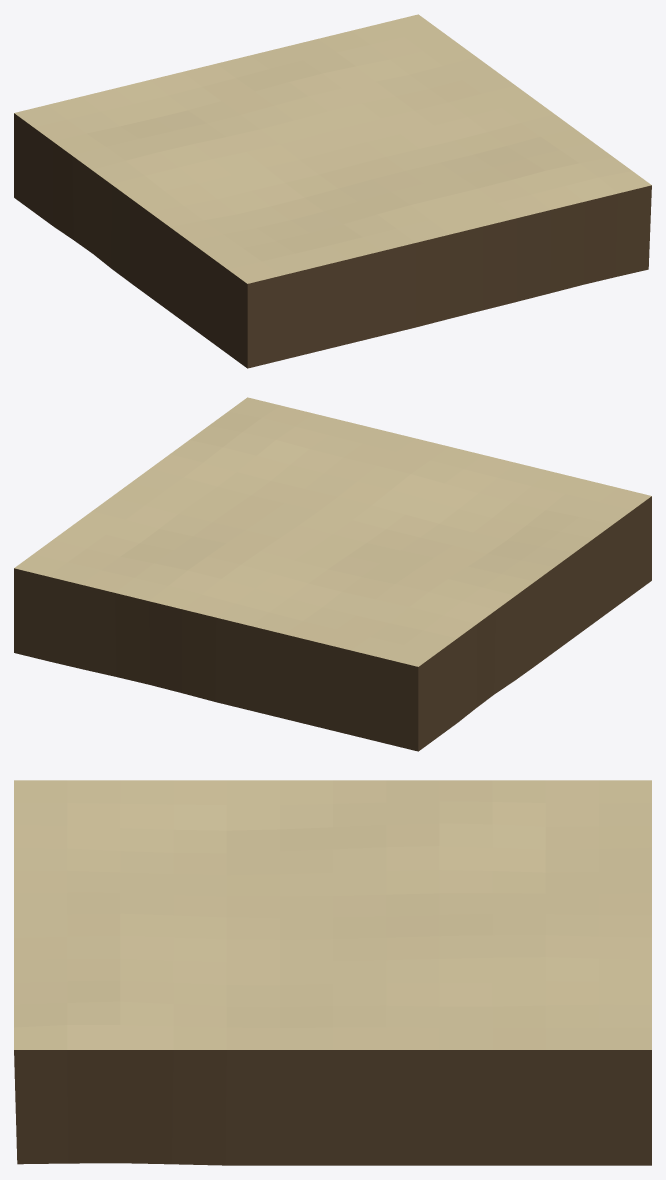
Rendered from sand_01.glb.
3 renders of one model, top to bottom at view 1: azimuth 30°, elevation 25°; view 2: azimuth 150°, elevation 25°; view 3: azimuth 270°, elevation 25°, orthographic. The views are drawn at different scales.
Parts seen in each view (by area): view 1: Grid; view 2: Grid; view 3: Grid.
Boxes of the visible parts, x1,y1,x2,y2 form: Grid: (14,14,651,368); Grid: (14,397,651,751); Grid: (14,780,651,1165).
Size of the model in its own units: 1 by 0.2059 by 1.
